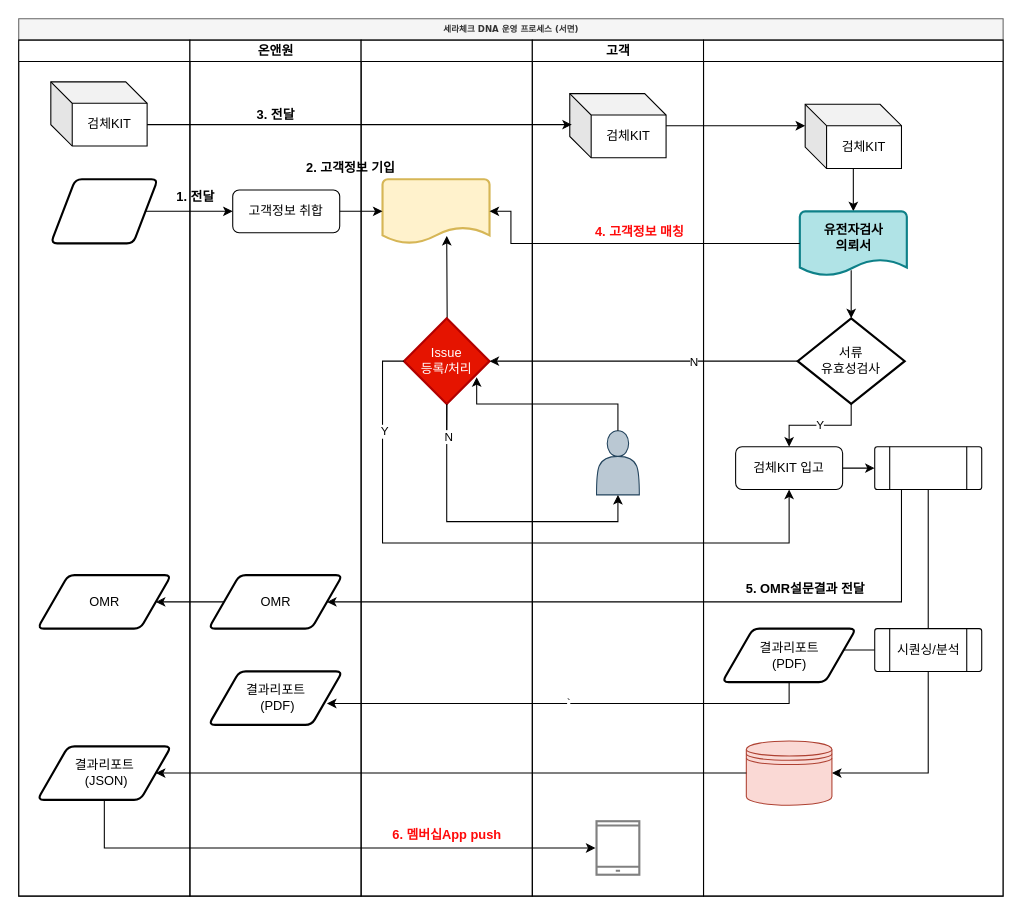
Image size: 1022x915. Some labels were removed from this diagram. The shapes that lost their labels are listed below. From the top down, each one's box as (x1, y1, x2, y2) in pixels, then its label:
(49, 178, 158, 244): 상품구매 고객정보
(381, 178, 490, 244): 고객관리 Sheet
(18, 39, 190, 896): 세라젬
(360, 39, 532, 896): Google Drive
(595, 430, 639, 495): 검체자
(702, 39, 1003, 896): 엔젠바이오
(874, 446, 982, 490): OMR처리
(745, 740, 832, 805): RawData
